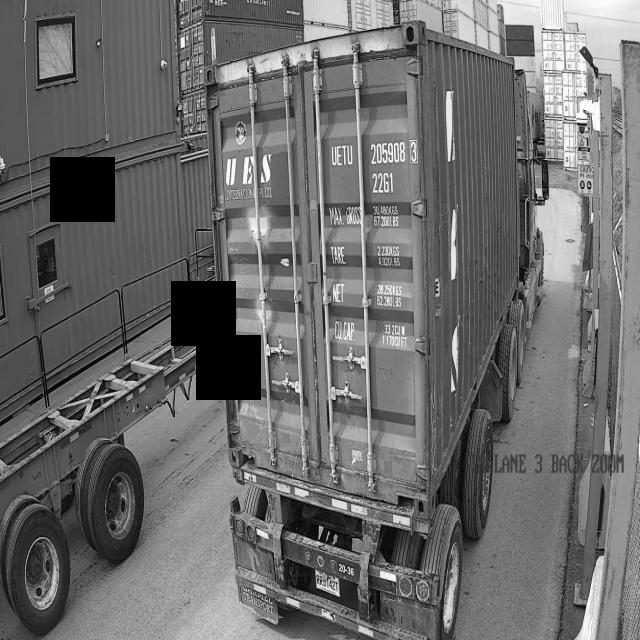container_company_logo: (224, 144, 289, 202)
container_number: (328, 130, 427, 195)
license_plate: (304, 566, 350, 600)
other_container_info: (328, 192, 421, 357)
truck_trailer: (0, 311, 220, 613)
truck_with_container: (205, 20, 548, 640)
